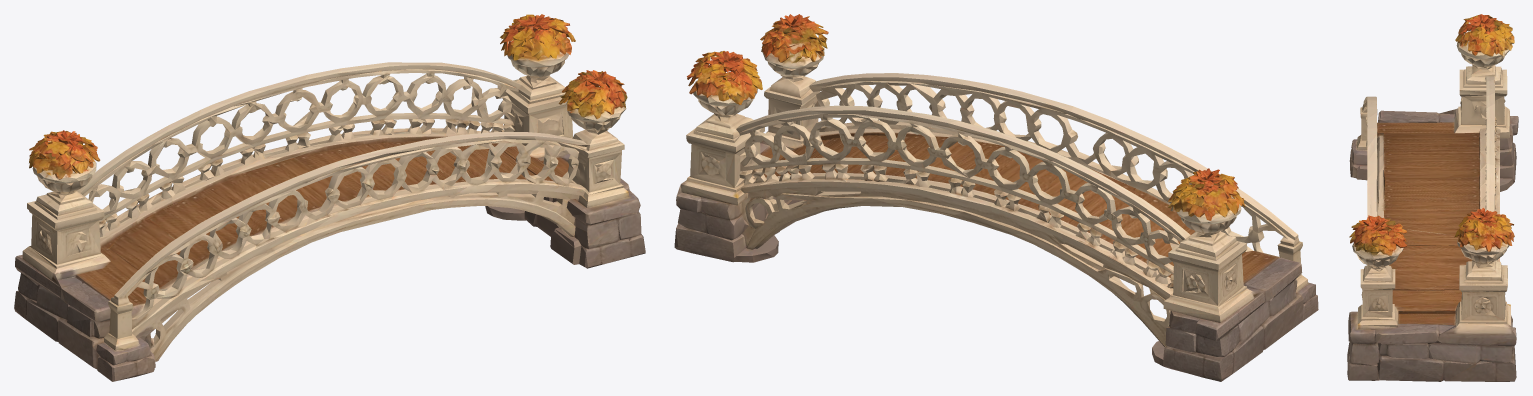
Rendered from bow-bridge.glb.
3 views of the same model, side by side, from view 1: azimuth 30°, elevation 25°; view 2: azimuth 150°, elevation 25°; view 3: azimuth 270°, elevation 25° (orthographic). The views are drawn at different scales.
Bounding box in the file's own units: 27.01 × 8.94 × 8.75.
1 material, 1 textured.
